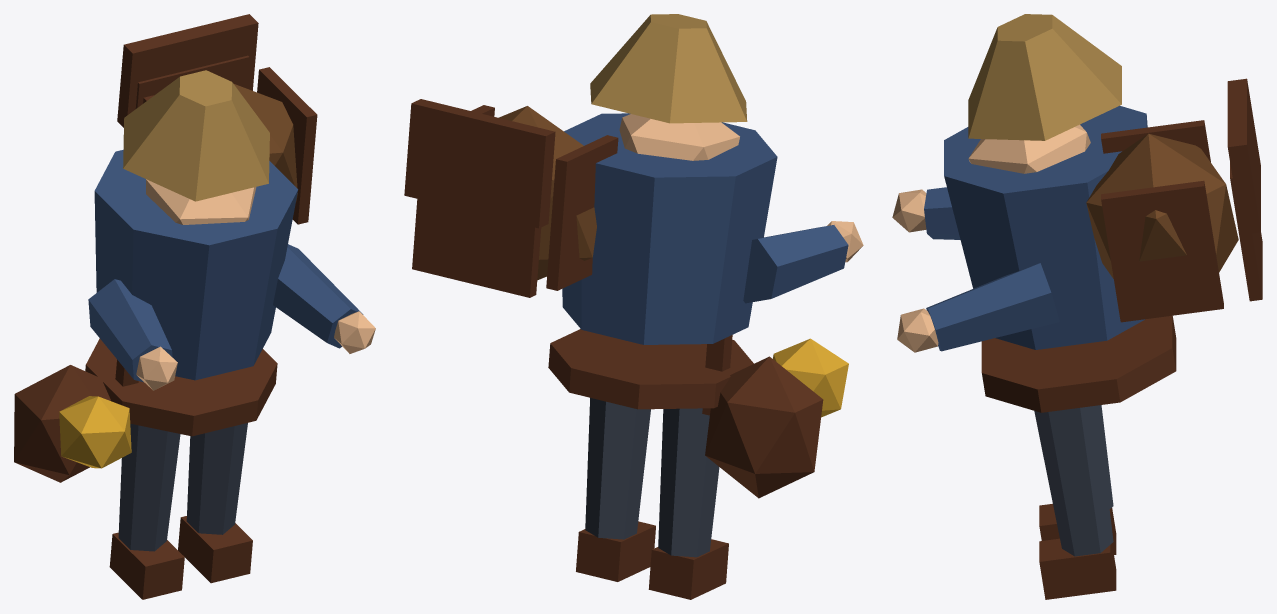
Rendered from npcpose_merchant_greet_08.glb.
The picture shows the model from 3 angles, left to right: view 1: azimuth 30°, elevation 25°; view 2: azimuth 150°, elevation 25°; view 3: azimuth 270°, elevation 25°; orthographic projection. The views are drawn at different scales.
Visible parts, largest first — view 1: npcpose; view 2: npcpose; view 3: npcpose.
Part boxes in pixels (<box>): npcpose: <box>14,14,375,599</box>; npcpose: <box>404,14,863,599</box>; npcpose: <box>892,14,1262,599</box>.
Size of the model in its own units: 1.2 by 1.86 by 1.14.
